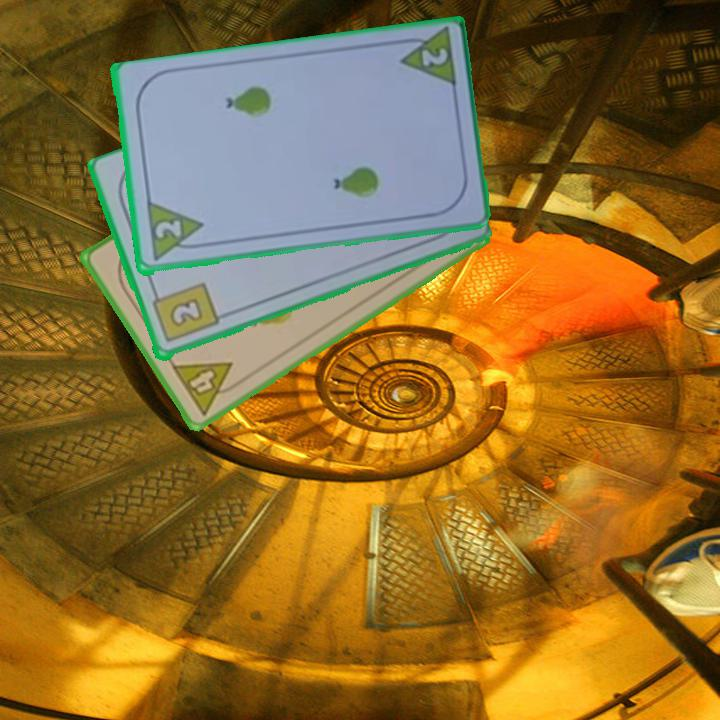2b: (148, 279, 221, 346)
2p: (392, 27, 459, 92), (142, 200, 208, 265)
4p: (167, 358, 246, 419)
